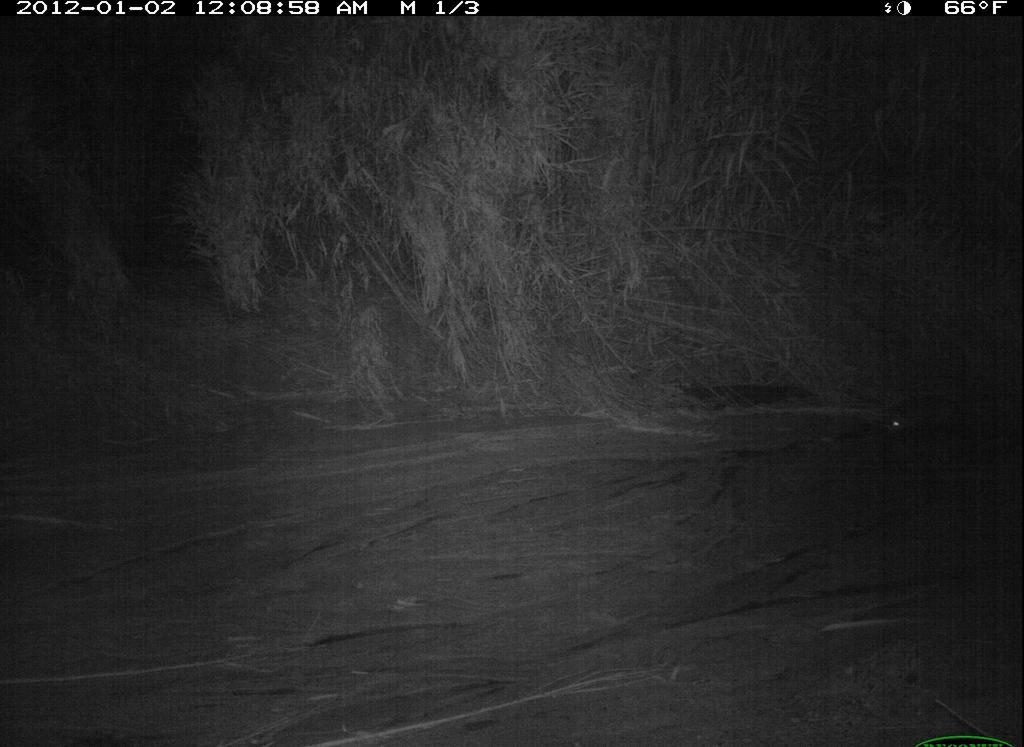opossum: (871, 382, 996, 456)
